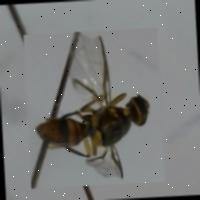Oriental-fruit-fly: (23, 28, 164, 189)
